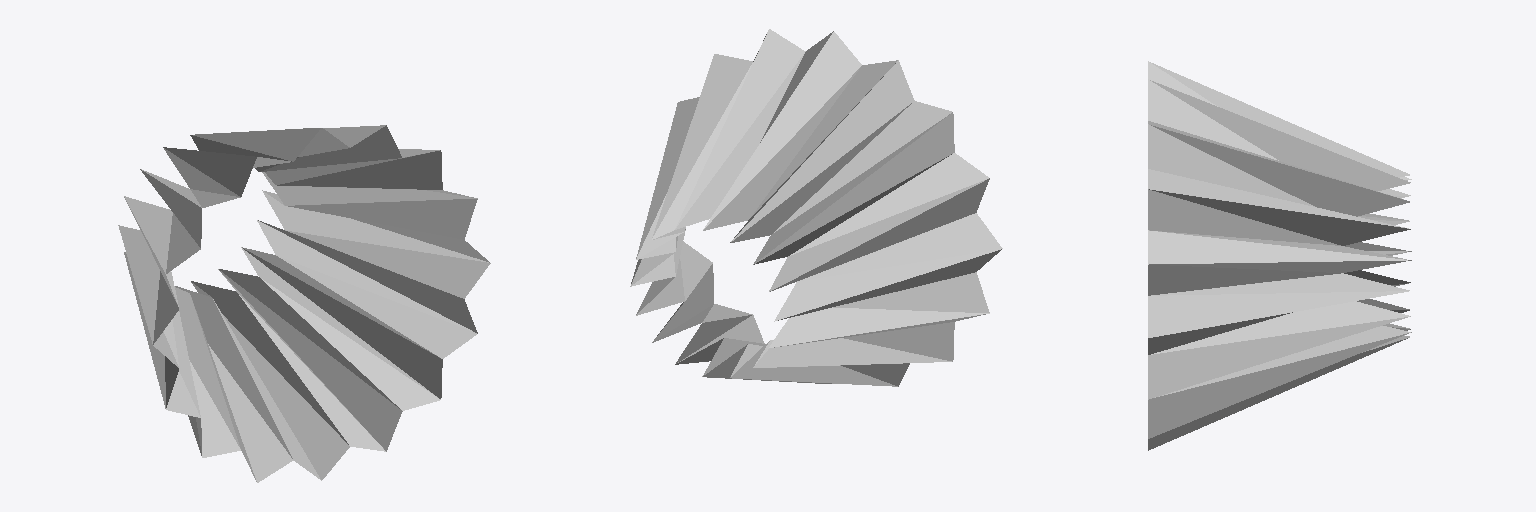
The model's file is FireBlu.obj.
3 renders of one model, left to right at view 1: azimuth 30°, elevation 25°; view 2: azimuth 150°, elevation 25°; view 3: azimuth 270°, elevation 25°, orthographic.
Visible parts, largest first — view 1: Circle; view 2: Circle; view 3: Circle.
Part boxes in pixels (bbox=[...]): Circle: bbox=[118, 125, 490, 482]; Circle: bbox=[630, 29, 1002, 386]; Circle: bbox=[1148, 61, 1411, 450].
Size of the model in its own units: 2 by 2 by 1.35.